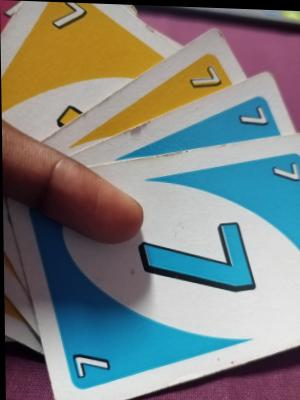blue: (58, 159, 300, 387)
num_7: (64, 352, 118, 384), (42, 3, 97, 34), (264, 153, 300, 188), (181, 62, 229, 88), (230, 105, 270, 129)
yellow: (10, 41, 147, 74)
